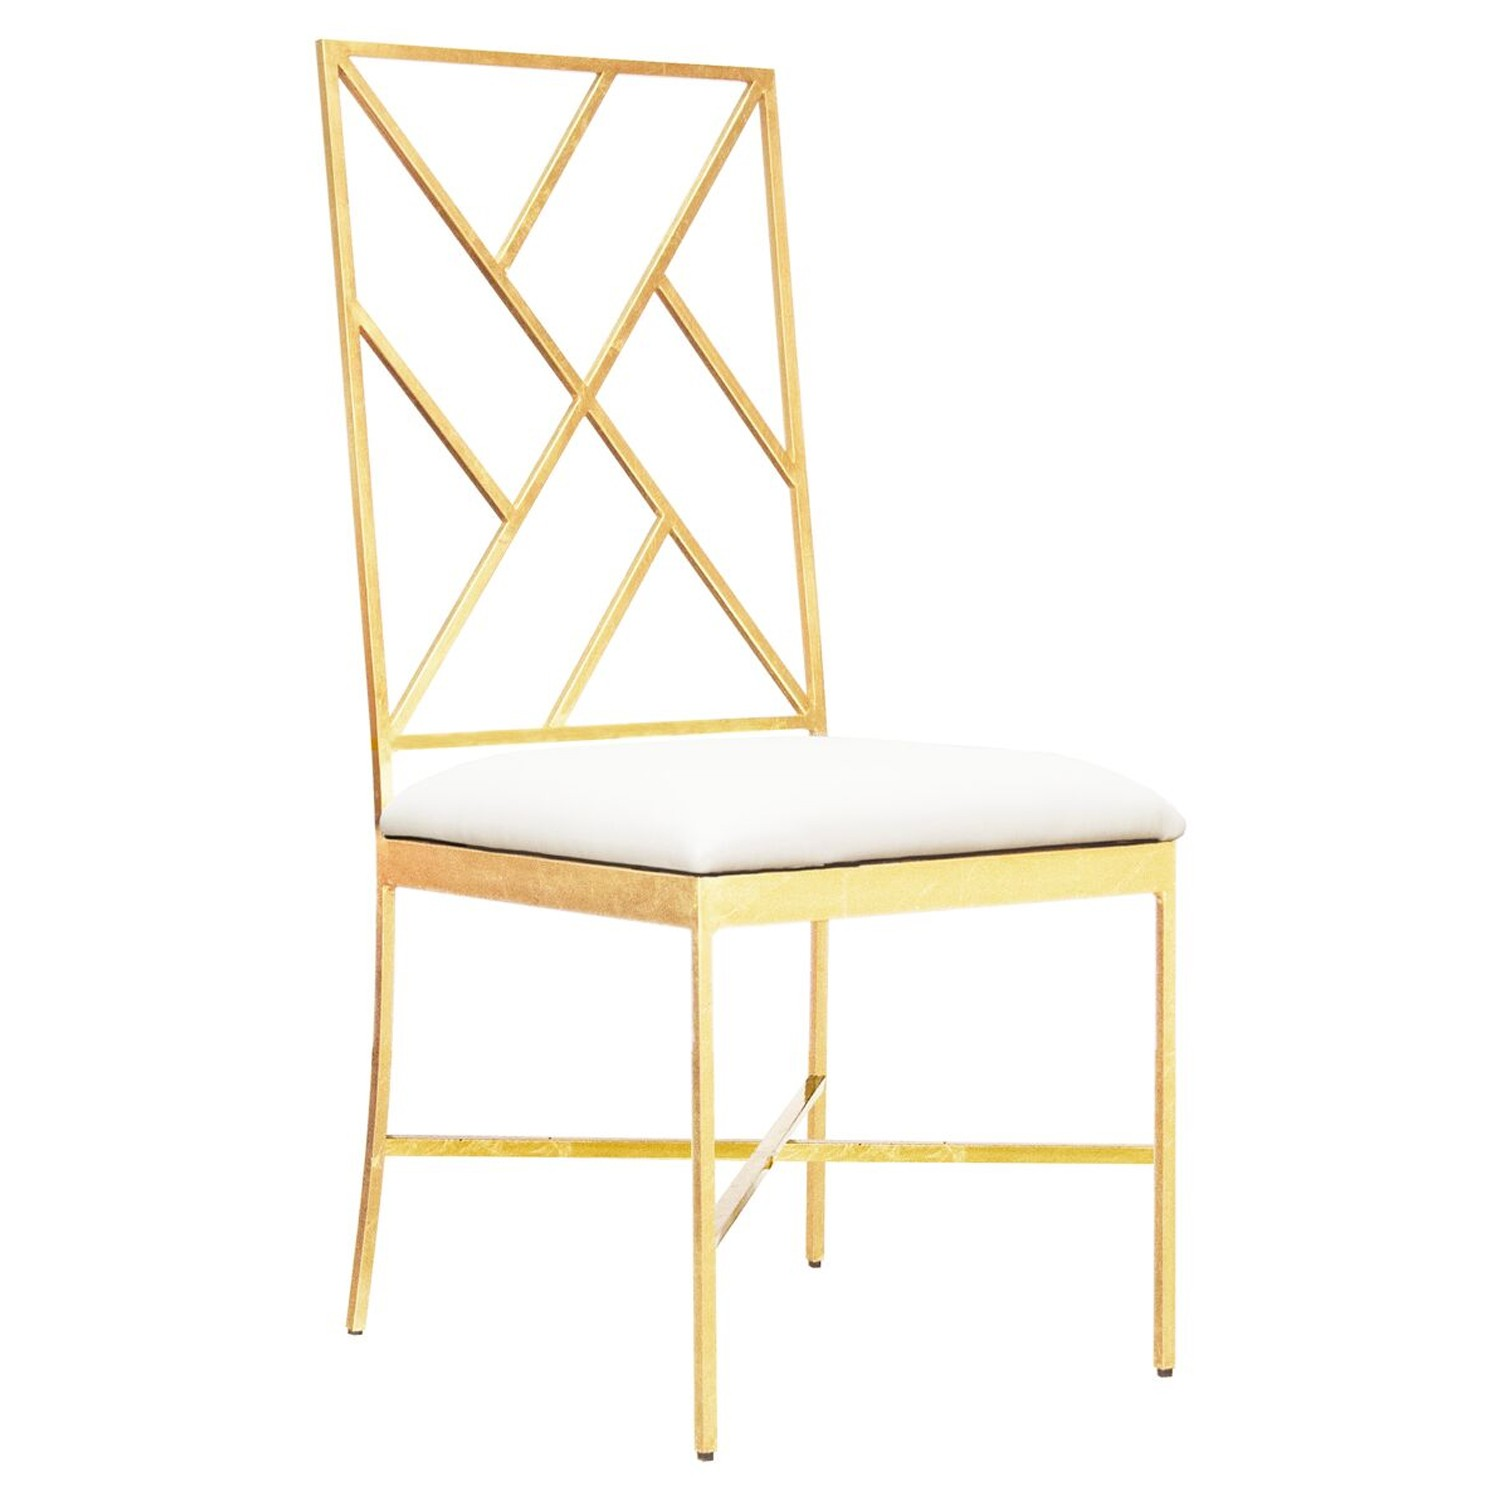chairs: (302, 27, 1212, 1457)
